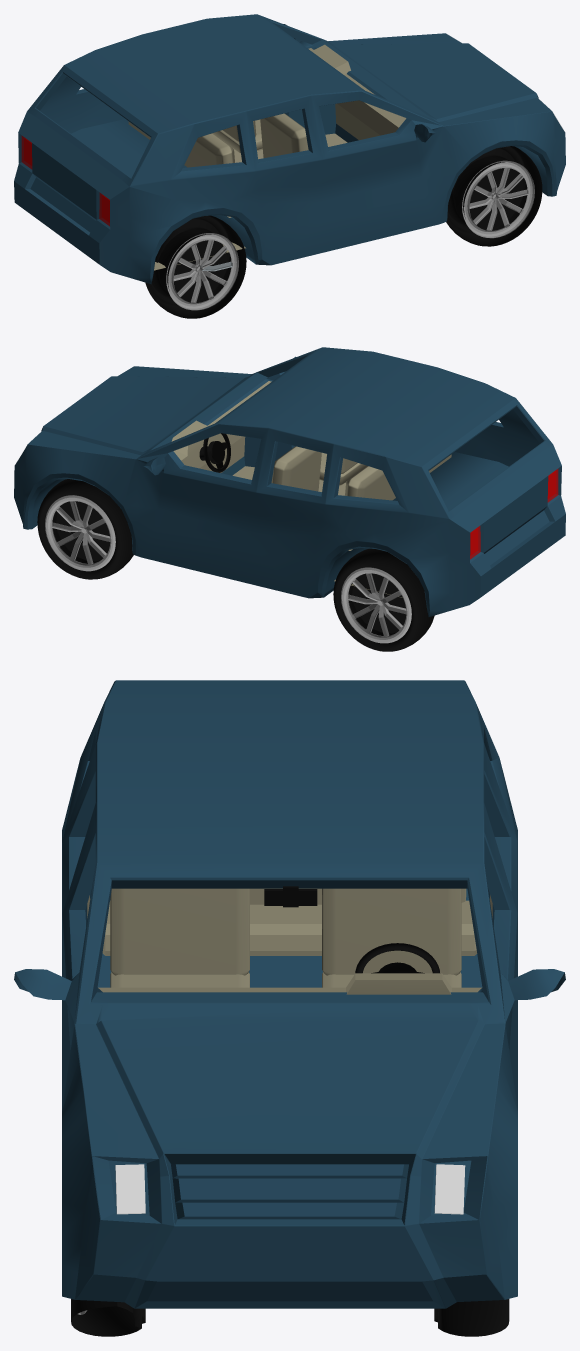
File: bp_scene_6_car.gltf
3 views of the same model, one above another, from view 1: azimuth 30°, elevation 25°; view 2: azimuth 150°, elevation 25°; view 3: azimuth 270°, elevation 25° (orthographic). The views are drawn at different scales.
Visible parts, largest first — view 1: pasted__polySurface3|pasted__polySurface1Shape, pTorusShape10, pTorusShape6, pCubeShape18, pasted__pasted__pasted__pCubeShape23, pTorusShape7, pTorusShape4, pCylinderShape11, pasted__pCubeShape23, pCylinderShape7, pPlaneShape7, pasted__pasted__pasted__pCubeShape24; view 2: pasted__polySurface3|pasted__polySurface1Shape, pTorusShape8, pTorusShape2, pasted__pasted__pCubeShape23, pTorusShape5, pTorusShape9, pasted__pCubeShape23, pCylinderShape9, pCylinderShape5, pCubeShape18, pPlaneShape7, pasted__pasted__pasted__pasted__pCubeShape23; view 3: pasted__polySurface3|pasted__polySurface1Shape, pasted__pasted__pasted__pCubeShape23, pasted__pasted__pCubeShape23, pasted__pasted__pCubeShape25, pCubeShape18, pTorusShape2, pTorusShape6, pasted__pasted__pasted__pasted__pCubeShape23, rightLightShape, leftLightShape, pTorusShape3.
Part boxes in pixels (x1,y1,x2,y2): pasted__polySurface3|pasted__polySurface1Shape: (14, 14, 565, 284); pTorusShape10: (145, 215, 246, 318); pTorusShape6: (446, 146, 542, 246); pCubeShape18: (308, 44, 406, 135); pasted__pasted__pasted__pCubeShape23: (260, 113, 308, 157); pTorusShape7: (166, 233, 238, 310); pTorusShape4: (462, 160, 534, 238); pCylinderShape11: (174, 240, 227, 300); pasted__pCubeShape23: (128, 121, 234, 167); pCylinderShape7: (469, 168, 523, 228); pPlaneShape7: (154, 103, 379, 270); pasted__pasted__pasted__pCubeShape24: (213, 119, 262, 153); pasted__polySurface3|pasted__polySurface1Shape: (14, 347, 565, 616); pTorusShape8: (333, 548, 434, 651); pTorusShape2: (37, 479, 133, 579); pasted__pasted__pCubeShape23: (271, 446, 321, 491); pTorusShape5: (45, 495, 115, 571); pTorusShape9: (341, 567, 411, 643); pasted__pCubeShape23: (345, 454, 451, 500); pCylinderShape9: (352, 573, 406, 633); pCylinderShape5: (56, 501, 110, 561); pCubeShape18: (171, 381, 271, 468); pPlaneShape7: (200, 436, 402, 597); pasted__pasted__pasted__pasted__pCubeShape23: (319, 452, 366, 486); pasted__polySurface3|pasted__polySurface1Shape: (14, 680, 565, 1308); pasted__pasted__pasted__pCubeShape23: (110, 888, 249, 975); pasted__pasted__pCubeShape23: (322, 888, 461, 975); pasted__pasted__pCubeShape25: (102, 900, 477, 955); pCubeShape18: (98, 973, 481, 994); pTorusShape2: (434, 1299, 509, 1336); pTorusShape6: (71, 1299, 145, 1336); pasted__pasted__pasted__pasted__pCubeShape23: (110, 972, 249, 987); rightLightShape: (115, 1164, 145, 1214); leftLightShape: (434, 1164, 465, 1214); pTorusShape3: (355, 943, 439, 973).
Size of the model in its own units: 1.26 by 0.5037 by 0.7001.
